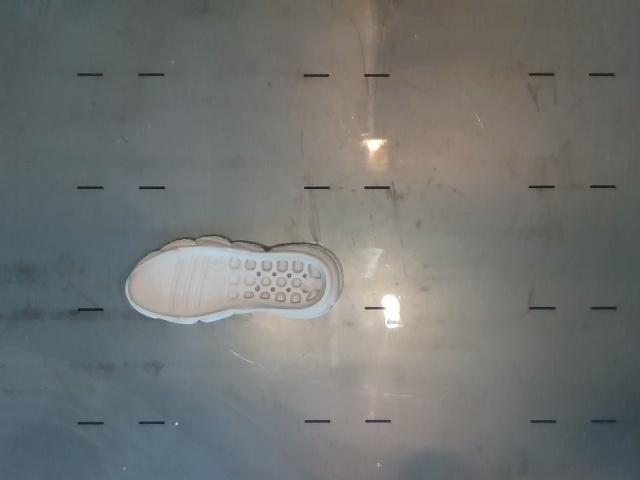shoes: (127, 247, 326, 318)
